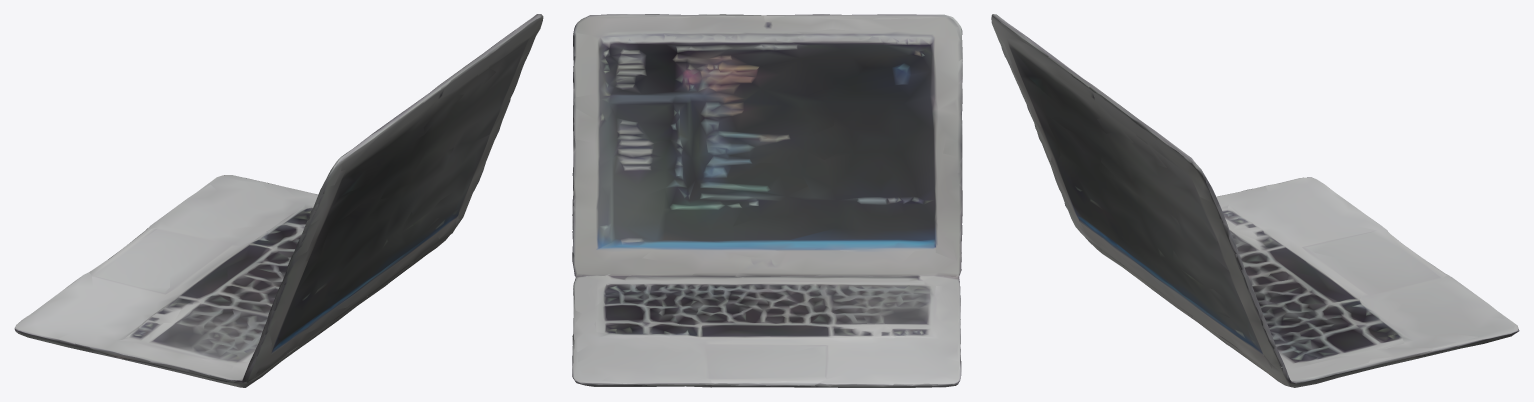
Rendered from 0004_mask_005_laptop.glb.
3 renders of one model, left to right at view 1: azimuth 30°, elevation 25°; view 2: azimuth 150°, elevation 25°; view 3: azimuth 270°, elevation 25°, orthographic. The views are drawn at different scales.
Parts seen in each view (by area): view 1: mask_005_object; view 2: mask_005_object; view 3: mask_005_object.
Boxes of the visible parts, x1,y1,x2,y2 form: mask_005_object: (14, 14, 543, 387); mask_005_object: (572, 14, 962, 387); mask_005_object: (991, 14, 1519, 387).
Size of the model in its own units: 0.6146 by 0.3196 by 0.5931.
